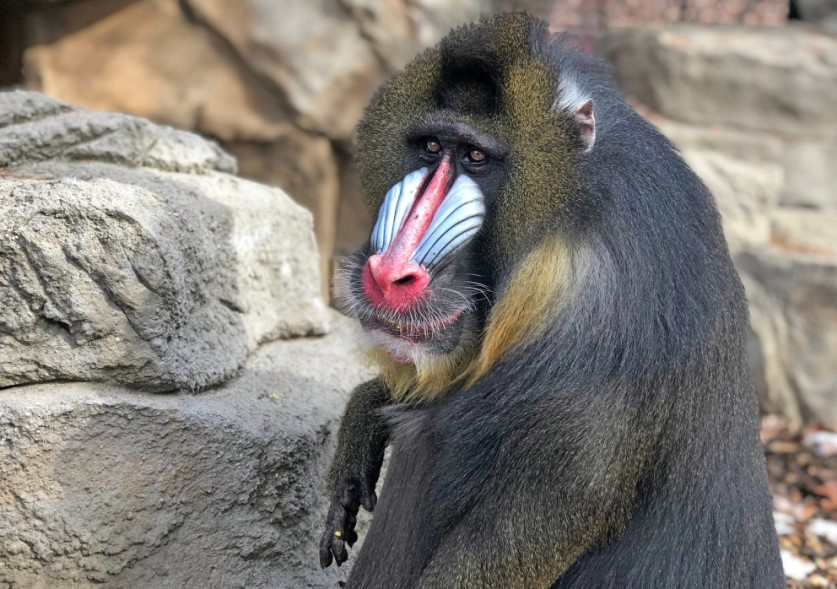Mandrill: (340, 38, 769, 580)
